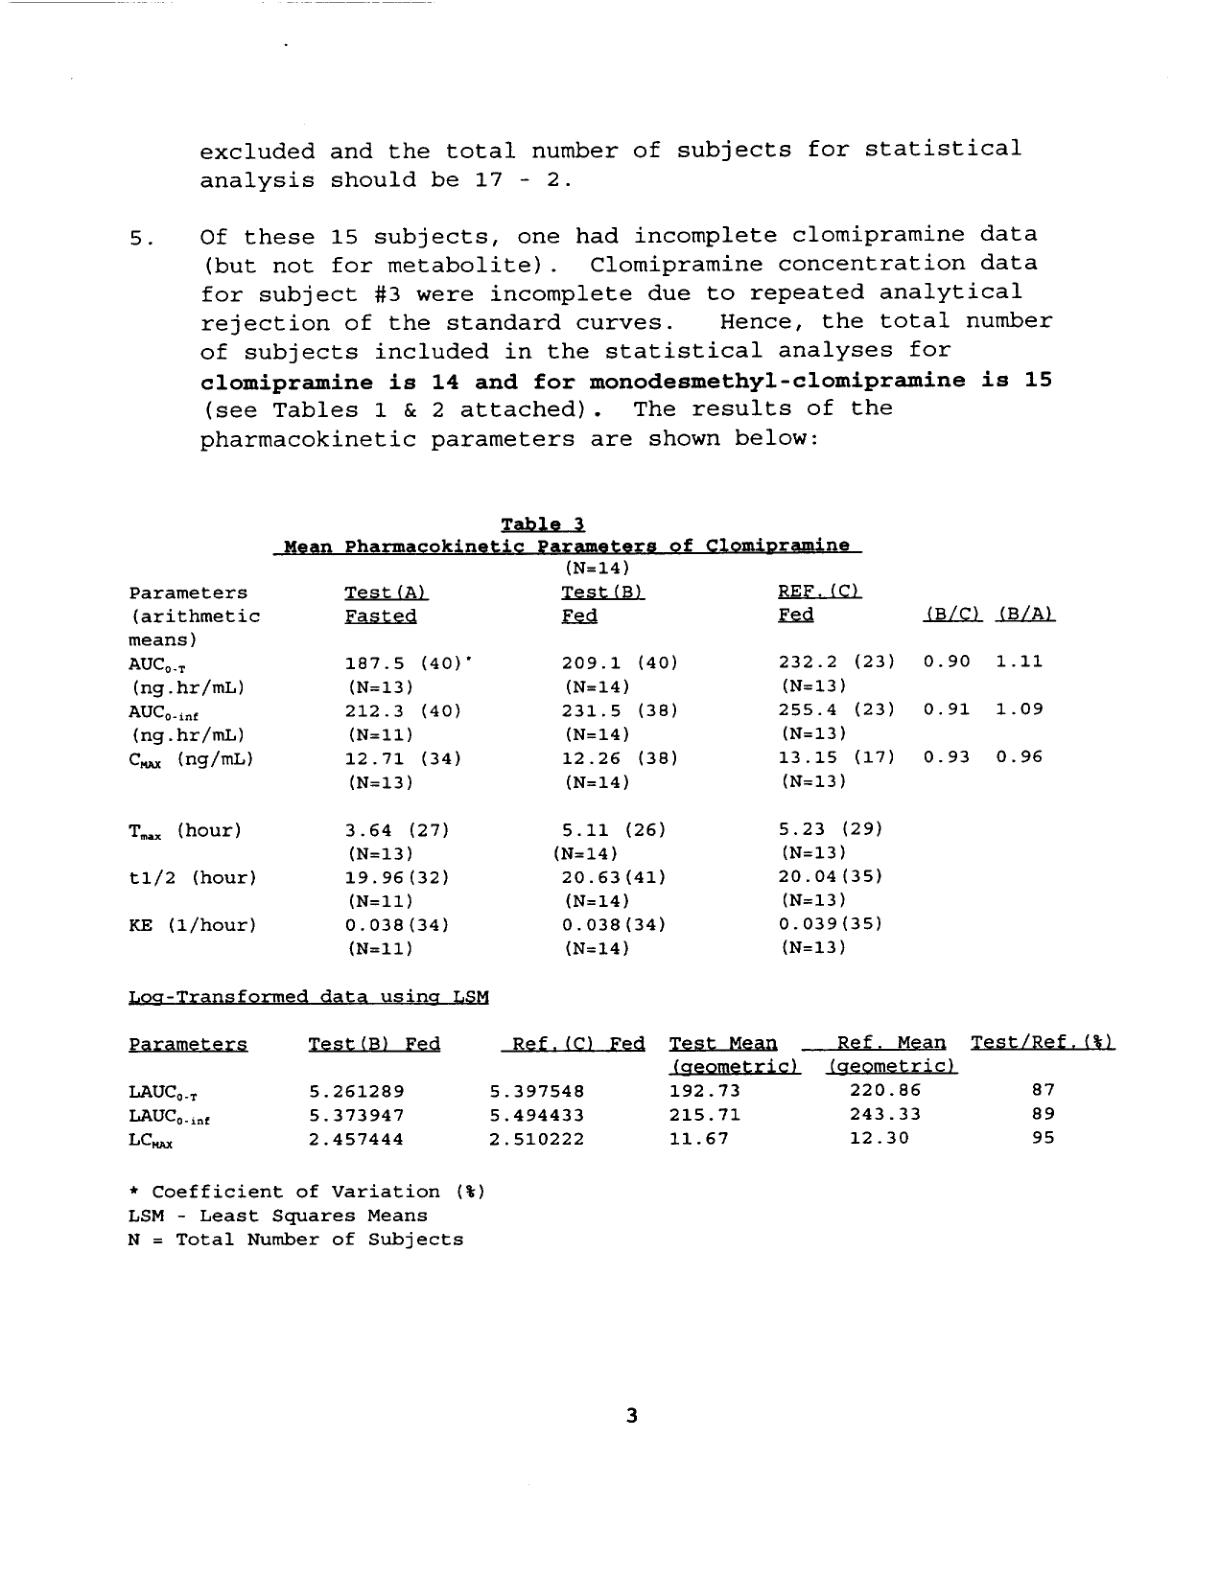nolines: (125, 582, 1054, 959), (125, 1034, 1117, 1146)
